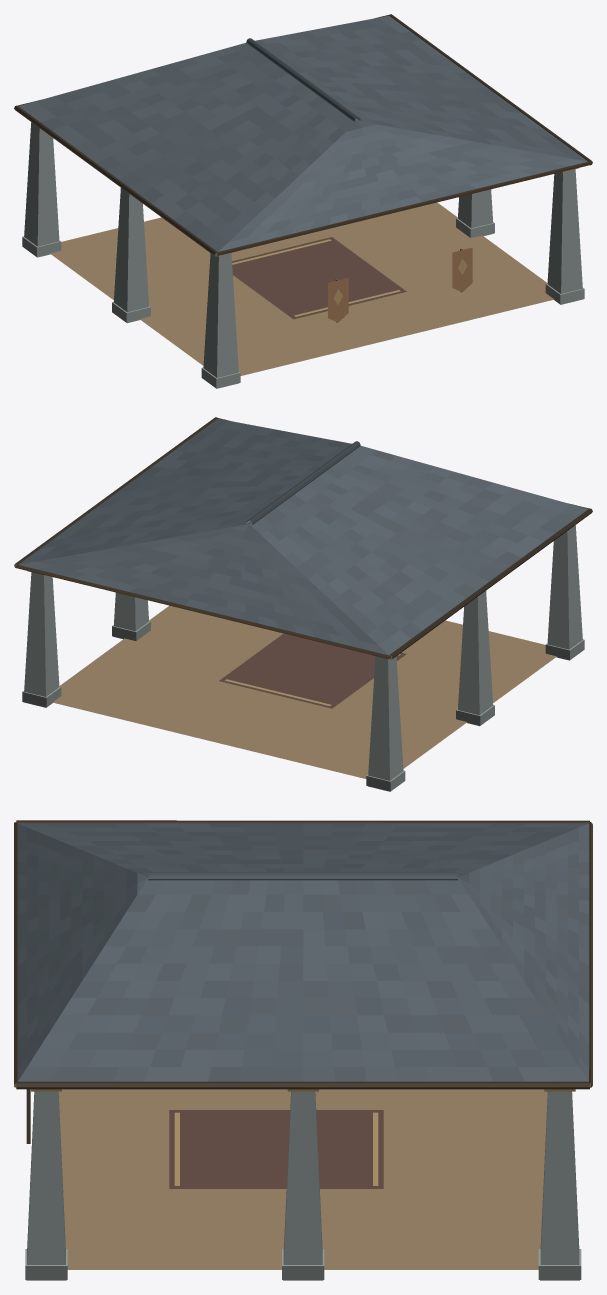
The picture shows the model from 3 angles, top to bottom: view 1: azimuth 30°, elevation 25°; view 2: azimuth 150°, elevation 25°; view 3: azimuth 270°, elevation 25°; orthographic projection. The views are drawn at different scales.
Visible parts, largest first — view 1: 3214d29dd3febe572af7ce2abdb30f7f745e1ec7fcded661cad990a943ae; view 2: 3214d29dd3febe572af7ce2abdb30f7f745e1ec7fcded661cad990a943ae; view 3: 3214d29dd3febe572af7ce2abdb30f7f745e1ec7fcded661cad990a943ae.
Boxes of the visible parts, <box> form: 3214d29dd3febe572af7ce2abdb30f7f745e1ec7fcded661cad990a943ae: <box>14,14,592,388</box>; 3214d29dd3febe572af7ce2abdb30f7f745e1ec7fcded661cad990a943ae: <box>14,417,592,791</box>; 3214d29dd3febe572af7ce2abdb30f7f745e1ec7fcded661cad990a943ae: <box>14,820,592,1280</box>.
Size of the model in its own units: 14.02 by 6.92 by 12.97.
Materials: 6 (1 with a texture image).
